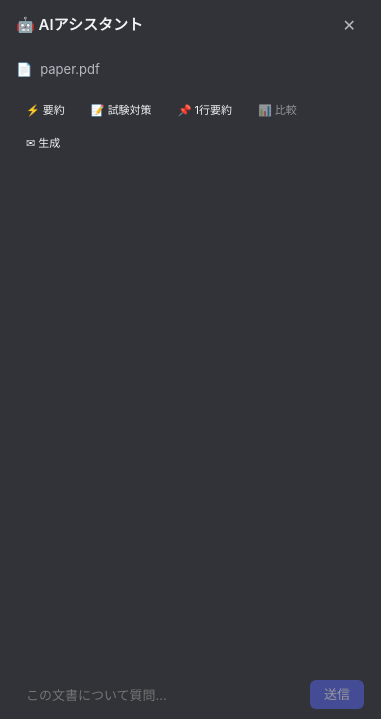
DocAIPanel › surfaces summarize errors
The image size is (381, 719).
Click the button "⚡ 要約" at x=45, y=110, box [16,97,75,124]
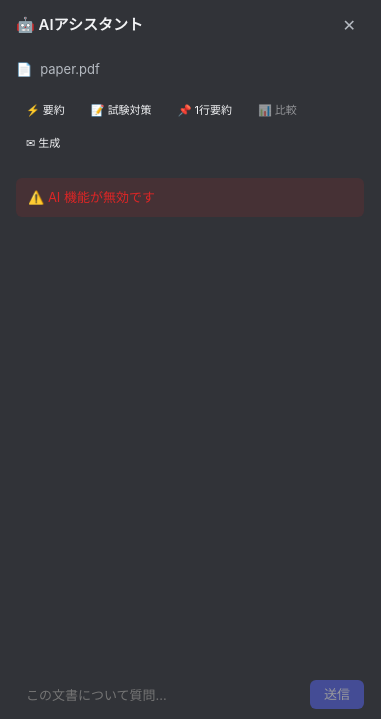
Now the message shows "AI 機能が無効です", box [48,189,155,205]
